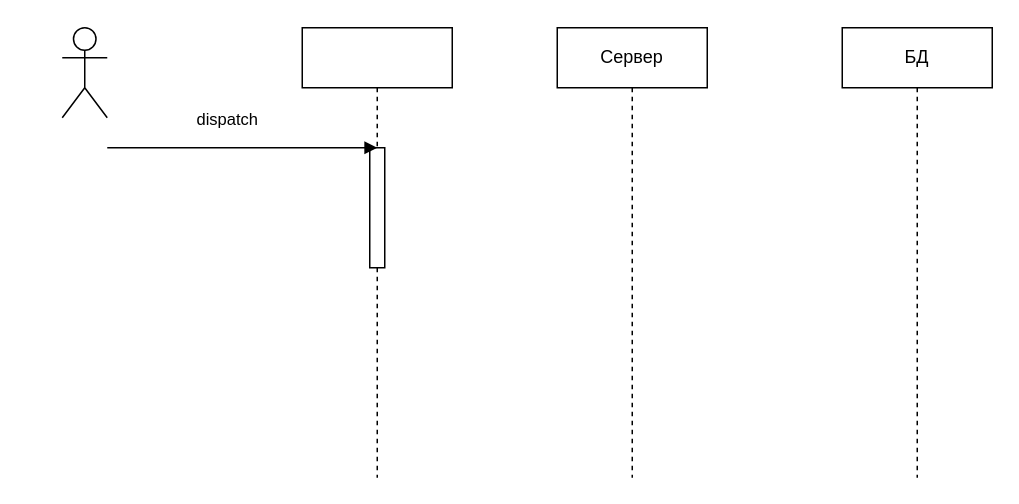
Some shapes in this 1019 by 504 pixel diagram are drawn without their labels. The centre of each missing label's shape, as x and y in pixels:
Клиент: мобильное прлиожение: point 376,252
Пользователь: point 84,72
